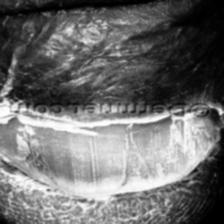Toxin: (0, 66, 203, 224)
